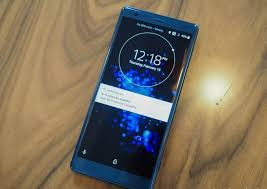sony: (65, 3, 202, 189)
